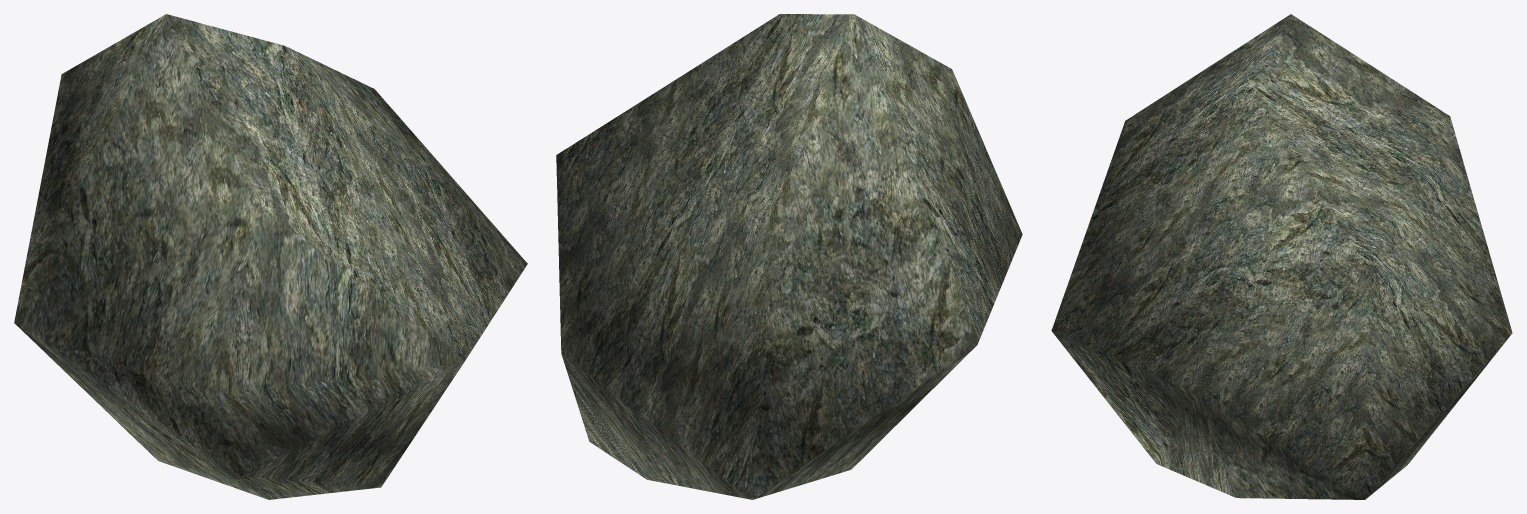
File: mtns_rock_grey_a2_l2.fbx
3 views of the same model, side by side, from view 1: azimuth 30°, elevation 25°; view 2: azimuth 150°, elevation 25°; view 3: azimuth 270°, elevation 25° (orthographic). The views are drawn at different scales.
Visible parts, largest first — view 1: mesh_node; view 2: mesh_node; view 3: mesh_node.
Part boxes in pixels (left/top/right/bottom): mesh_node: left=14, top=14, right=527, bottom=499; mesh_node: left=556, top=14, right=1022, bottom=499; mesh_node: left=1051, top=14, right=1512, bottom=499.
Size of the model in its own units: 1.26 by 1.22 by 1.3.
Materials: 1 (1 with a texture image).
